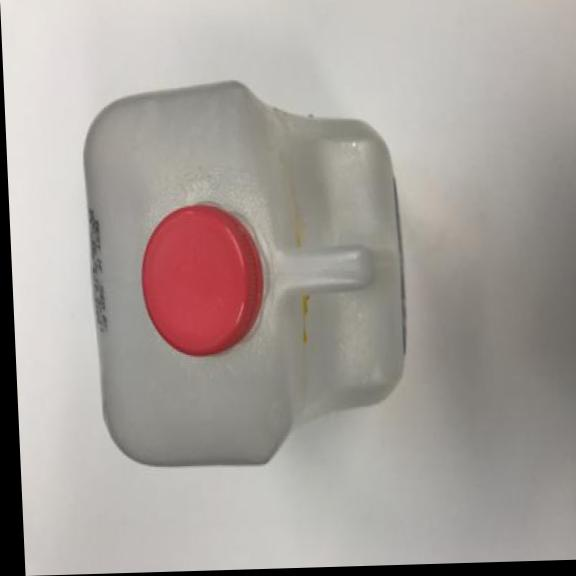Plastik: (72, 60, 421, 479)
